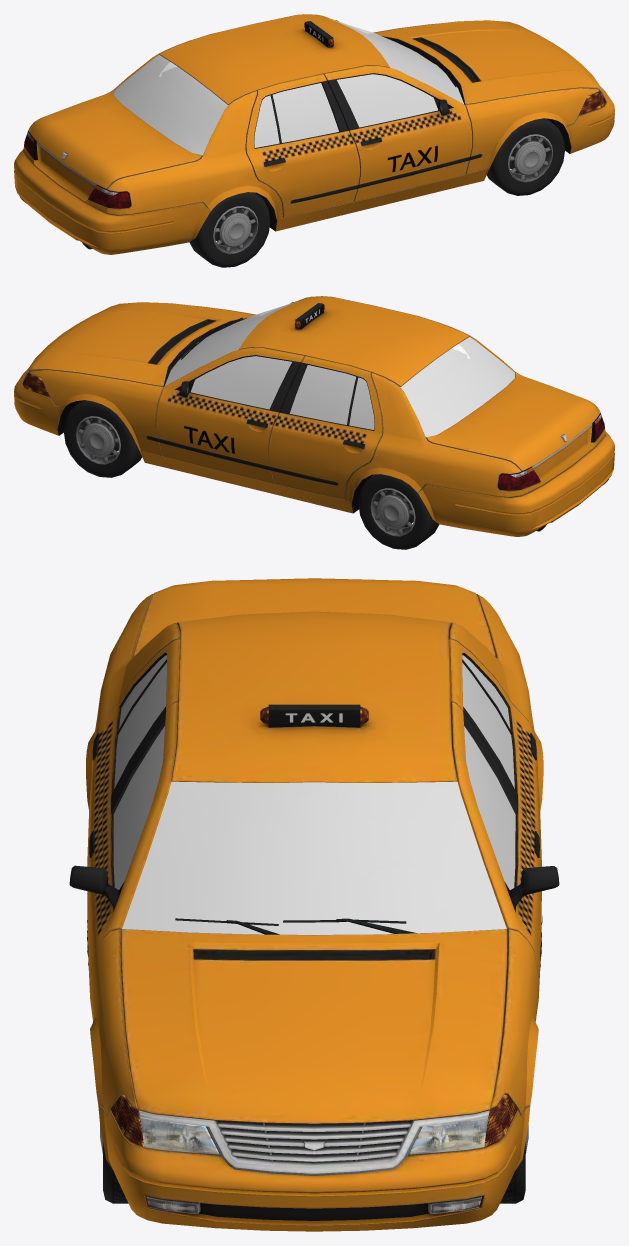
Rendered from taxi.glb.
3 renders of one model, top to bottom at view 1: azimuth 30°, elevation 25°; view 2: azimuth 150°, elevation 25°; view 3: azimuth 270°, elevation 25°, orthographic. The views are drawn at different scales.
Parts seen in each view (by area): view 1: body; view 2: body; view 3: body.
Boxes of the visible parts, x1,y1,x2,y2 form: body: (14,14,614,267); body: (14,296,614,549); body: (69,578,559,1231).
Bounding box in the file's own units: 4.7 × 1.39 × 1.85.
4 materials, 3 textured.
